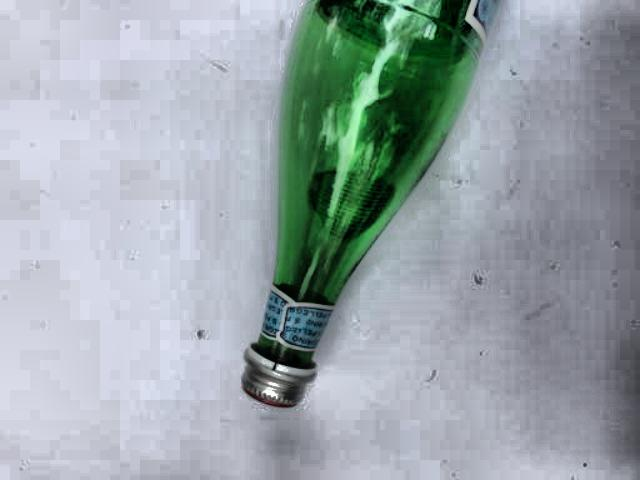Bottles: (216, 0, 523, 423)
